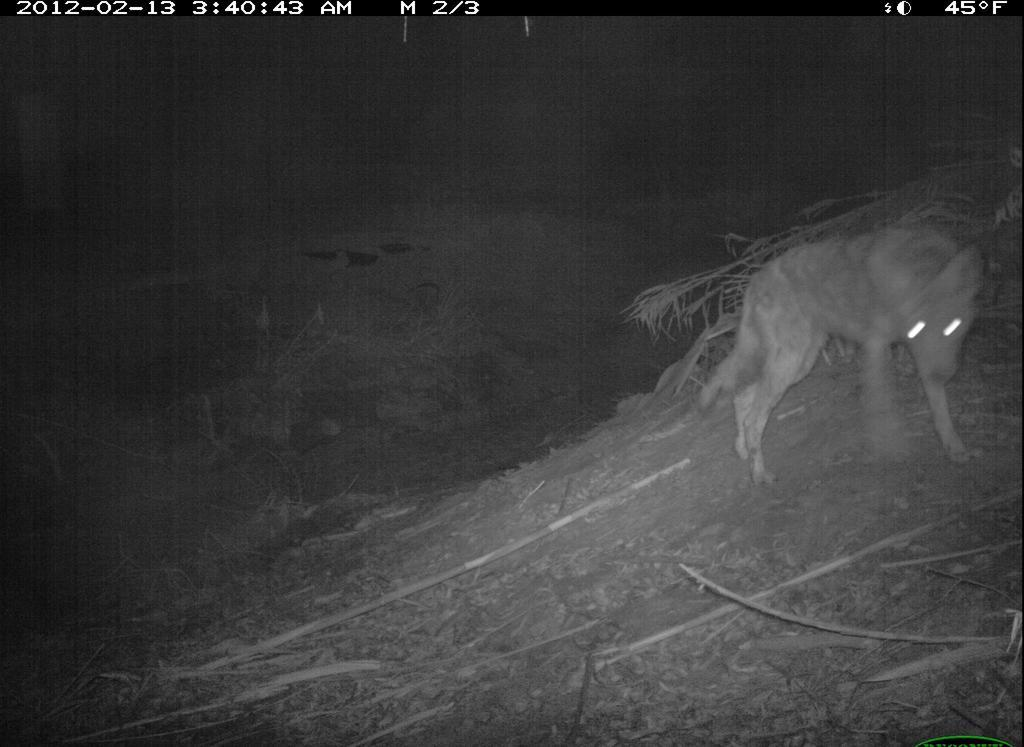coyote: (685, 205, 999, 496)
